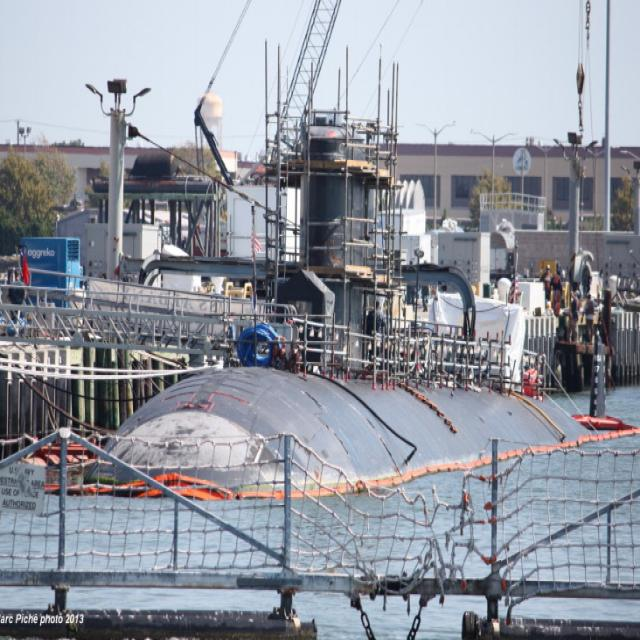submarine: (74, 122, 611, 489)
